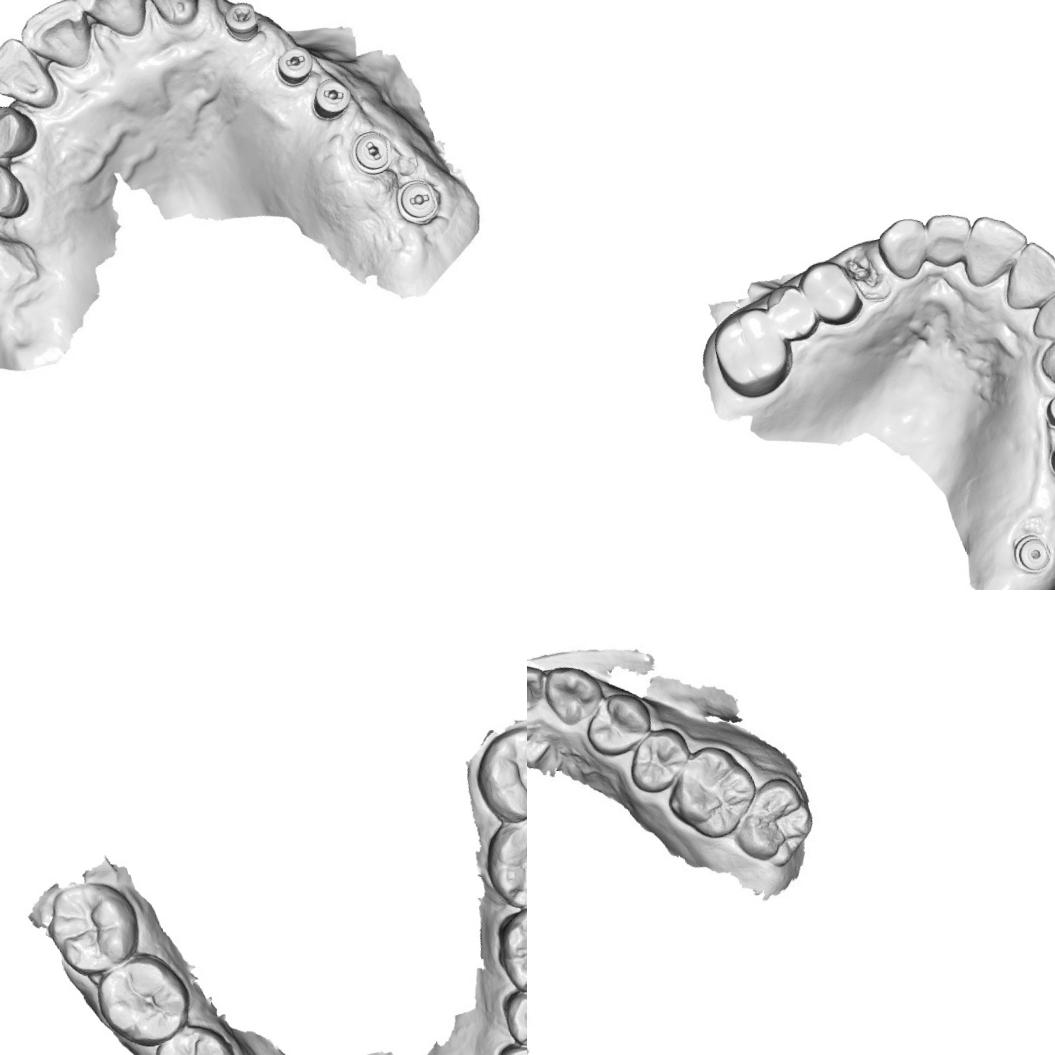canine: (0, 30, 60, 116), (537, 658, 604, 728), (871, 212, 934, 285), (1033, 328, 1055, 394)
implant: (1004, 524, 1055, 581)
implant_minus: (393, 172, 448, 234), (342, 121, 398, 176), (303, 71, 360, 124), (265, 39, 320, 90), (1036, 386, 1055, 435), (1041, 435, 1055, 483)
implant_plus: (215, 0, 267, 43)
incisor: (949, 204, 1037, 292), (13, 0, 95, 76), (992, 234, 1055, 315), (916, 206, 980, 272), (69, 0, 150, 41), (1018, 281, 1055, 346), (139, 0, 209, 31), (527, 649, 550, 718)
molar: (36, 870, 148, 982), (89, 942, 198, 1054), (702, 298, 802, 406), (662, 739, 763, 841), (724, 770, 818, 875), (465, 720, 527, 830), (476, 808, 527, 917), (485, 896, 527, 1004), (143, 1014, 252, 1055), (757, 278, 820, 346)
premolar: (792, 251, 868, 334), (620, 720, 698, 799), (580, 682, 654, 759), (0, 92, 41, 167), (495, 981, 527, 1055), (0, 151, 29, 227)
